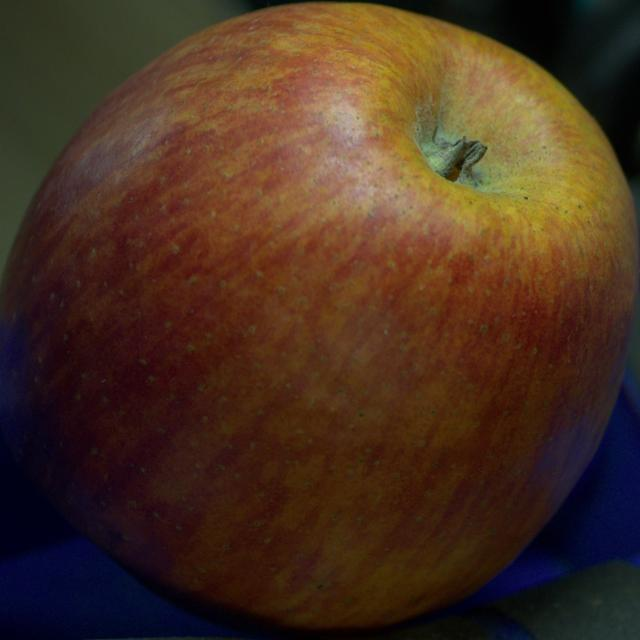apple: (0, 3, 639, 631)
